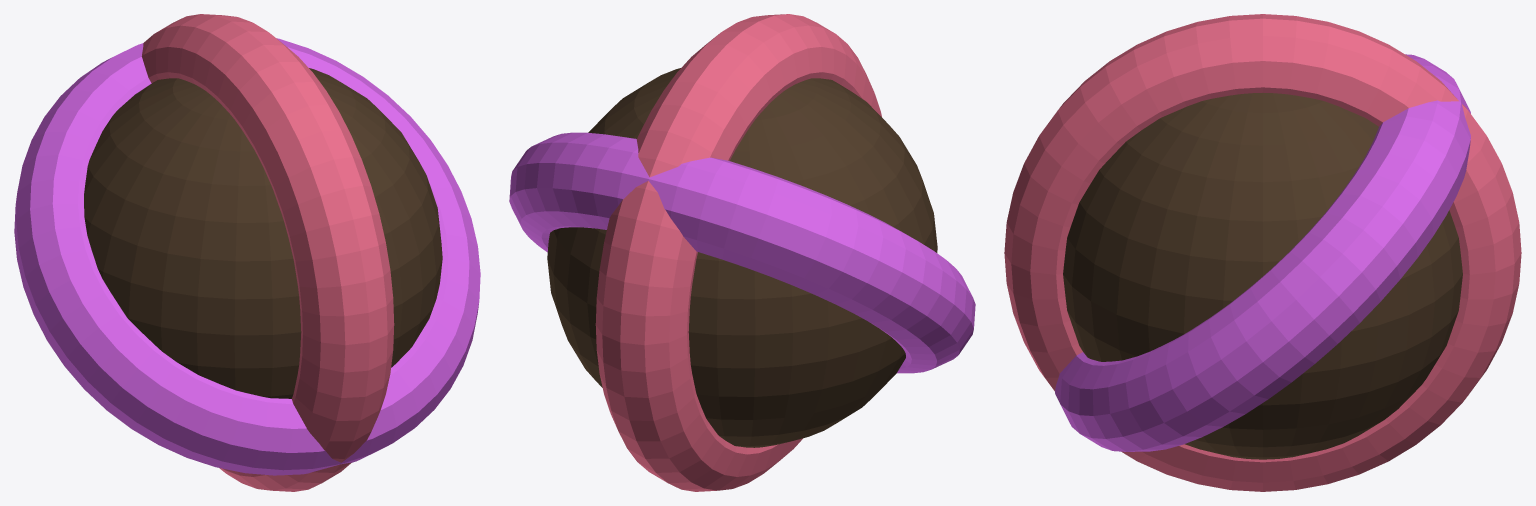
3 renders of one model, left to right at view 1: azimuth 30°, elevation 25°; view 2: azimuth 150°, elevation 25°; view 3: azimuth 270°, elevation 25°, orthographic. The views are drawn at different scales.
Visible parts, largest first — view 1: Torus.001; view 2: Torus.001; view 3: Torus.001.
Boxes of the visible parts, x1,y1,x2,y2 form: Torus.001: [14, 14, 480, 491]; Torus.001: [509, 14, 975, 491]; Torus.001: [1004, 14, 1521, 491].
Bounding box in the file's own units: 2.25 × 2.25 × 2.25.
